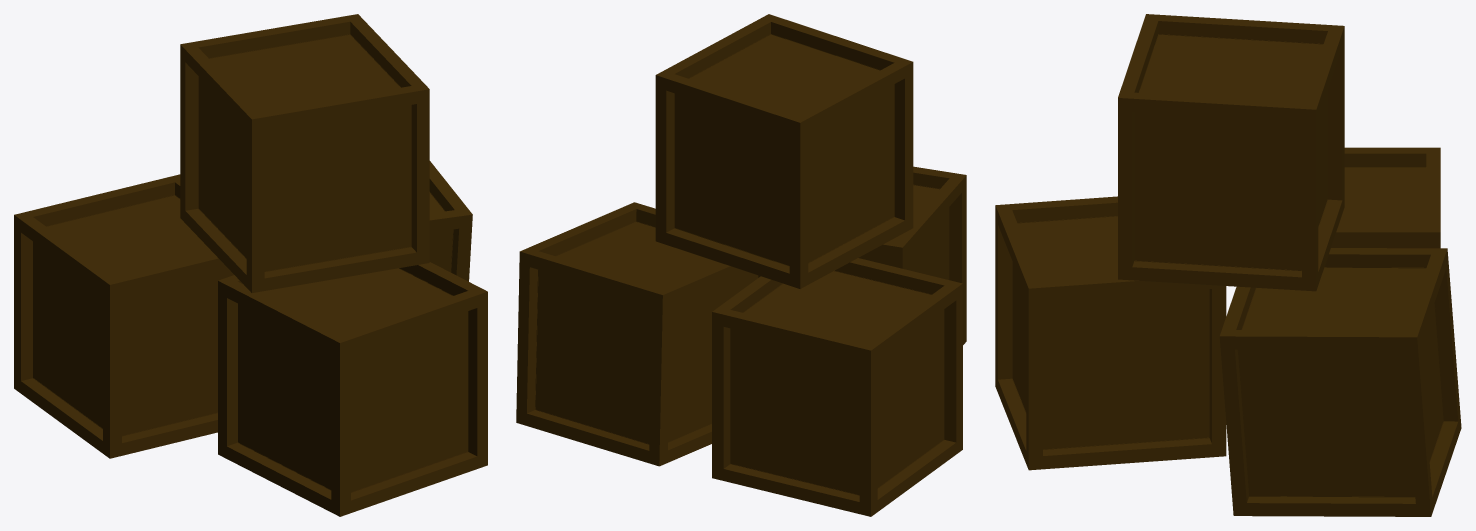
3 renders of one model, left to right at view 1: azimuth 30°, elevation 25°; view 2: azimuth 150°, elevation 25°; view 3: azimuth 270°, elevation 25°, orthographic. The views are drawn at different scales.
Visible parts, largest first — view 1: Cube_2, Cube_3, Cube, Cube_1; view 2: Cube_2, Cube, Cube_1, Cube_3; view 3: Cube_2, Cube_1, Cube_3, Cube.
Boxes of the visible parts, x1,y1,x2,y2 form: Cube_2: (180,14,429,292); Cube_3: (218,262,487,516); Cube: (14,174,233,458); Cube_1: (429,161,472,281); Cube_2: (655,14,913,288); Cube: (712,258,962,516); Cube_1: (516,202,760,466); Cube_3: (858,166,966,344); Cube_2: (1118,14,1344,291); Cube_1: (1219,248,1461,516); Cube_3: (995,196,1226,470); Cube: (1331,147,1440,248).
Size of the model in its own units: 456 by 411 by 465.
